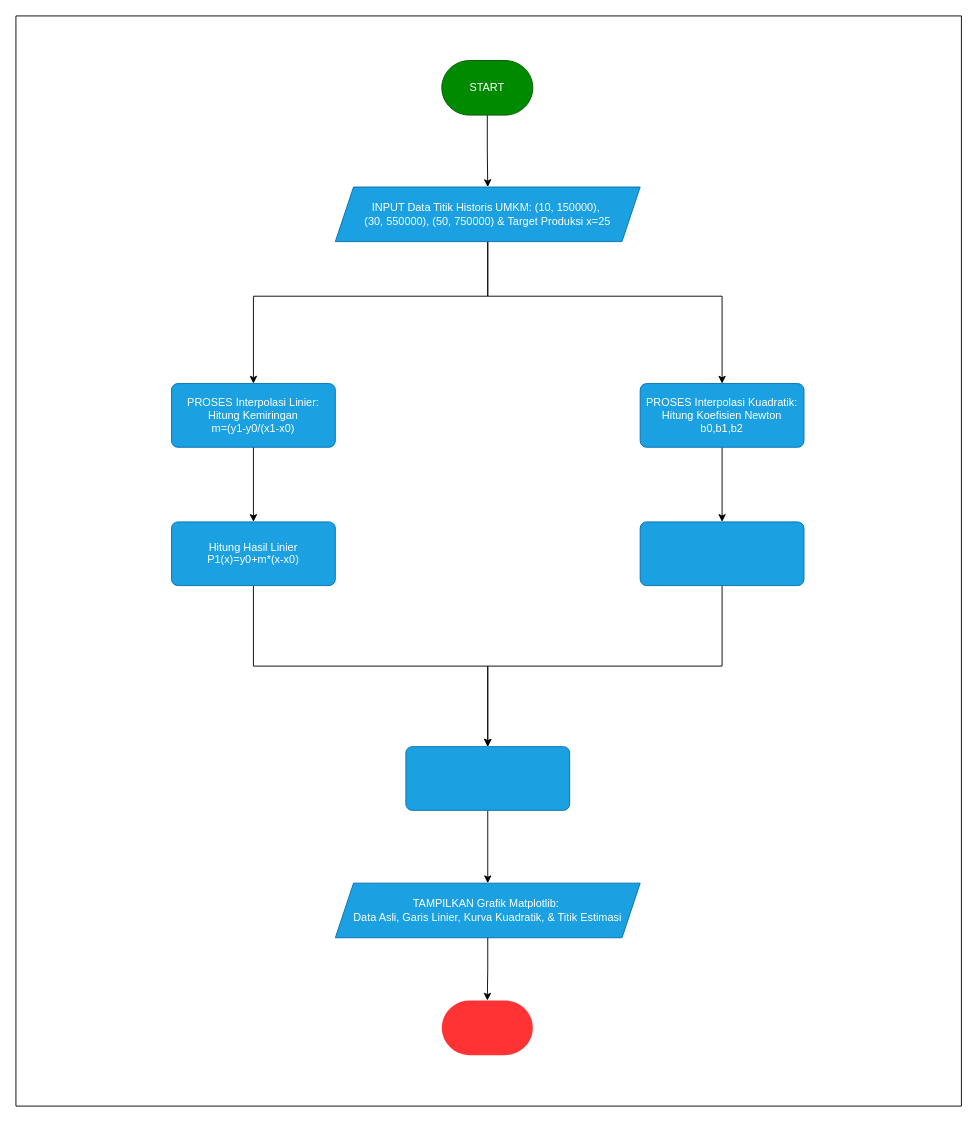
Image size: 977x1122. Some labels were removed from this diagram. The shapes that lost their labels are listed below. From the top down, each one's centre as x and y in pixels, then its label:
At [721,553]: "Hitung Hasil Kuadratik P2(x)=b0+b1*(x-x0)+b2*(x-x0)*(x-x1)".
At [487,778]: "PROSES Evaluasi & Hitung Galat Relatif (%)".
At [486,1027]: "END".
